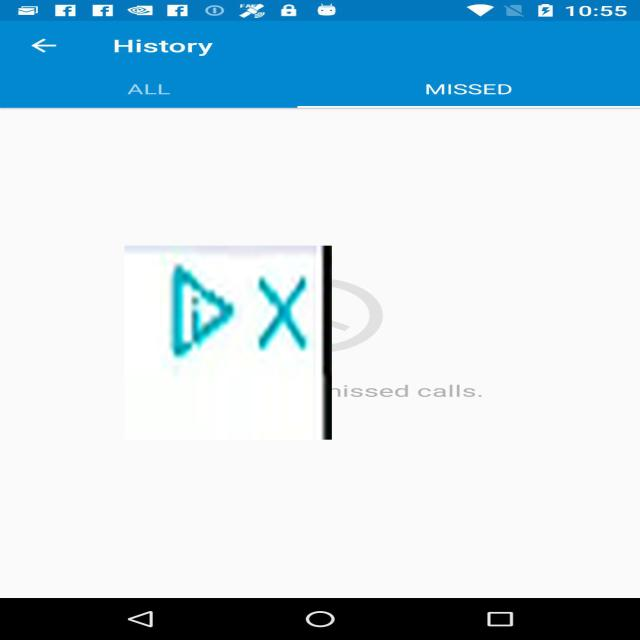sneaking: (124, 246, 332, 440)
